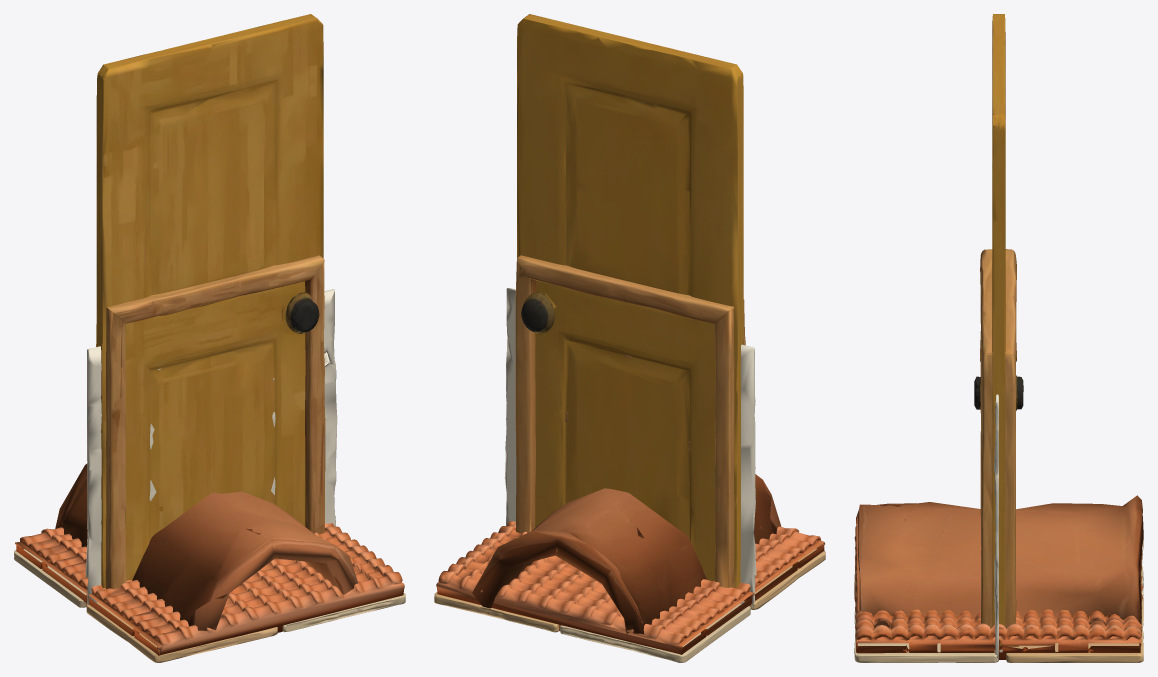
File: maison.glb
3 renders of one model, left to right at view 1: azimuth 30°, elevation 25°; view 2: azimuth 150°, elevation 25°; view 3: azimuth 270°, elevation 25°, orthographic.
Parts seen in each view (by area): view 1: tripo_node_e525fdee-43a3-4d9d-a49f-8b4cf4647ba7, tripo_node_939597a3-6e44-4526-93a7-a715c9e6bc75, tripo_node_ab5f1ee2-a906-471f-86fb-aab38666c9b2, tripo_part_0, tripo_node_0cf1845c-a164-4ab8-bb52-f4915d3d7e38, tripo_node_229b19cc-f958-4fba-badd-d423dac4114f; view 2: tripo_node_e525fdee-43a3-4d9d-a49f-8b4cf4647ba7, tripo_node_939597a3-6e44-4526-93a7-a715c9e6bc75, tripo_node_ab5f1ee2-a906-471f-86fb-aab38666c9b2, tripo_part_0, tripo_node_0cf1845c-a164-4ab8-bb52-f4915d3d7e38, tripo_node_229b19cc-f958-4fba-badd-d423dac4114f; view 3: tripo_node_939597a3-6e44-4526-93a7-a715c9e6bc75, tripo_node_ab5f1ee2-a906-471f-86fb-aab38666c9b2, tripo_part_0, tripo_node_e525fdee-43a3-4d9d-a49f-8b4cf4647ba7, tripo_node_229b19cc-f958-4fba-badd-d423dac4114f, tripo_node_0cf1845c-a164-4ab8-bb52-f4915d3d7e38.
Boxes of the visible parts, <box> form: tripo_node_e525fdee-43a3-4d9d-a49f-8b4cf4647ba7: <box>96,14,323,587</box>; tripo_node_939597a3-6e44-4526-93a7-a715c9e6bc75: <box>55,463,358,630</box>; tripo_node_ab5f1ee2-a906-471f-86fb-aab38666c9b2: <box>15,523,404,655</box>; tripo_part_0: <box>96,255,325,589</box>; tripo_node_0cf1845c-a164-4ab8-bb52-f4915d3d7e38: <box>85,289,337,604</box>; tripo_node_229b19cc-f958-4fba-badd-d423dac4114f: <box>14,549,405,662</box>; tripo_node_e525fdee-43a3-4d9d-a49f-8b4cf4647ba7: <box>517,14,743,588</box>; tripo_node_939597a3-6e44-4526-93a7-a715c9e6bc75: <box>472,474,781,634</box>; tripo_node_ab5f1ee2-a906-471f-86fb-aab38666c9b2: <box>436,521,824,654</box>; tripo_part_0: <box>515,255,745,587</box>; tripo_node_0cf1845c-a164-4ab8-bb52-f4915d3d7e38: <box>504,288,756,607</box>; tripo_node_229b19cc-f958-4fba-badd-d423dac4114f: <box>434,548,825,662</box>; tripo_node_939597a3-6e44-4526-93a7-a715c9e6bc75: <box>856,495,1143,631</box>; tripo_node_ab5f1ee2-a906-471f-86fb-aab38666c9b2: <box>854,526,1143,659</box>; tripo_part_0: <box>980,249,1018,646</box>; tripo_node_e525fdee-43a3-4d9d-a49f-8b4cf4647ba7: <box>974,14,1023,645</box>; tripo_node_229b19cc-f958-4fba-badd-d423dac4114f: <box>854,540,1143,662</box>; tripo_node_0cf1845c-a164-4ab8-bb52-f4915d3d7e38: <box>993,394,998,660</box>.
Bounding box in the file's own units: 1 × 2.05 × 1.
Materials: 11 (10 with a texture image).
